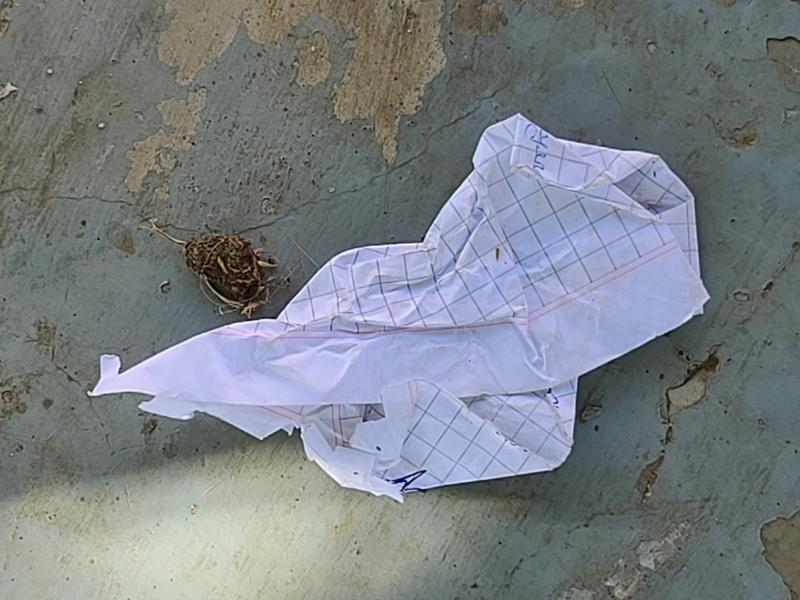papel: (89, 116, 709, 504)
